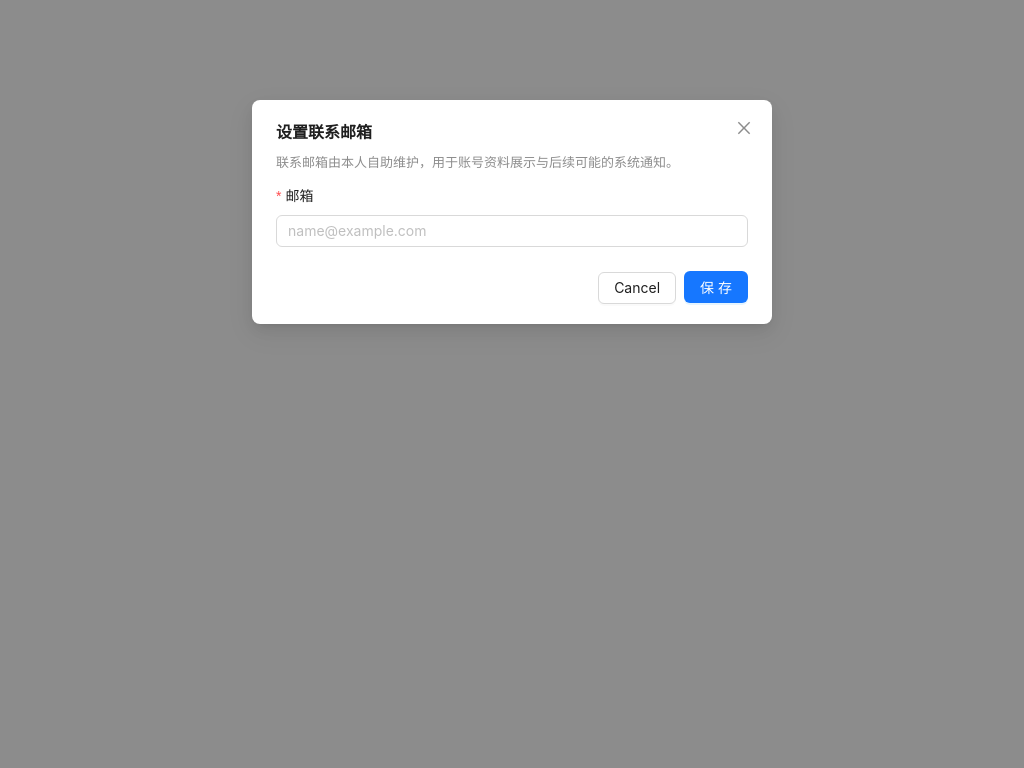
it: EmailModal › 非法格式被客户端校验拦截，不发起请求
Type "not-an-email" into the field labelled "邮箱" at {"x": 512, "y": 231}, box [276, 215, 748, 247]
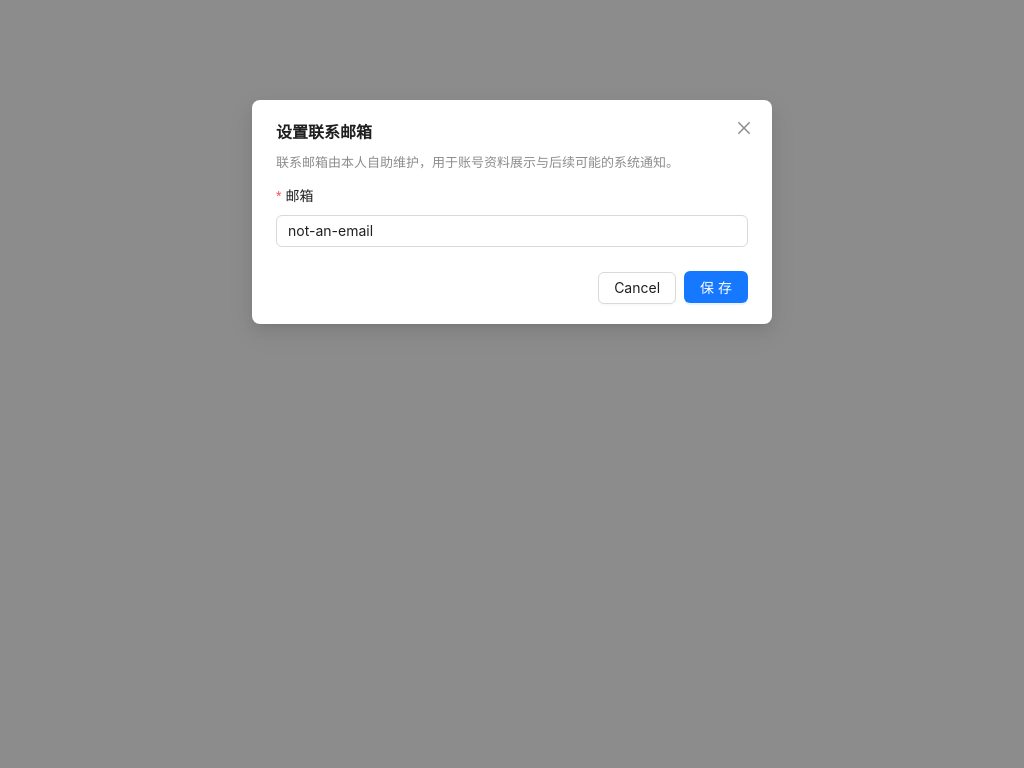
Click the button "保 存" at {"x": 716, "y": 287}, box [684, 271, 748, 303]
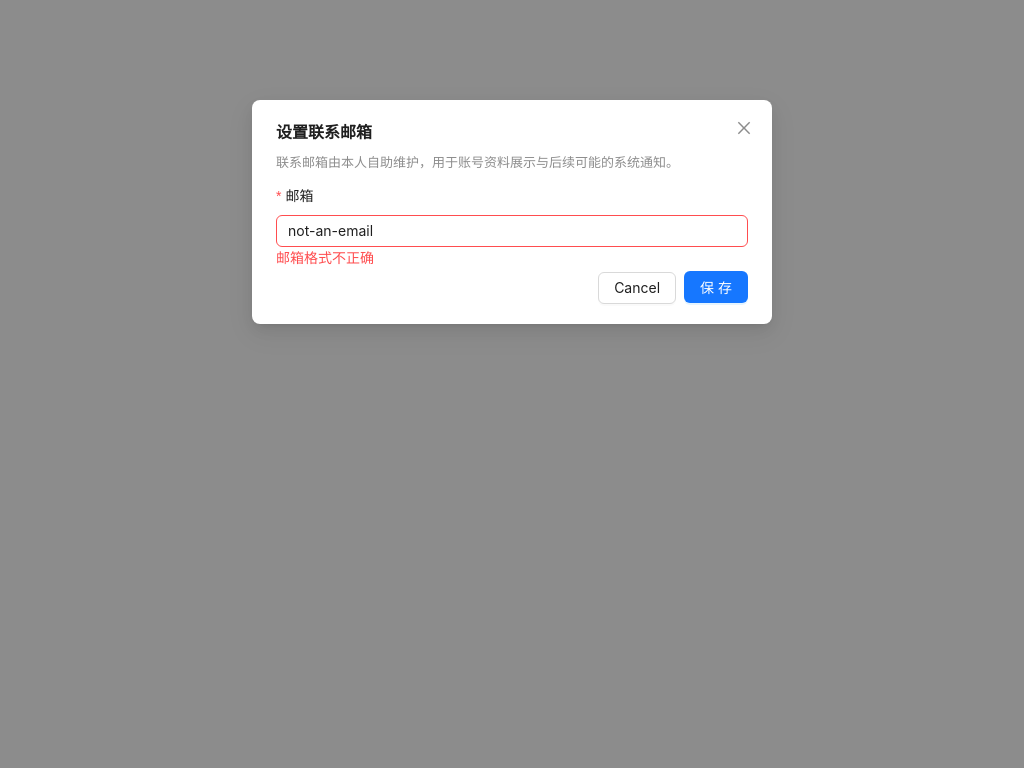
Check: the text "邮箱格式不正确" is shown, box [276, 249, 374, 266]
